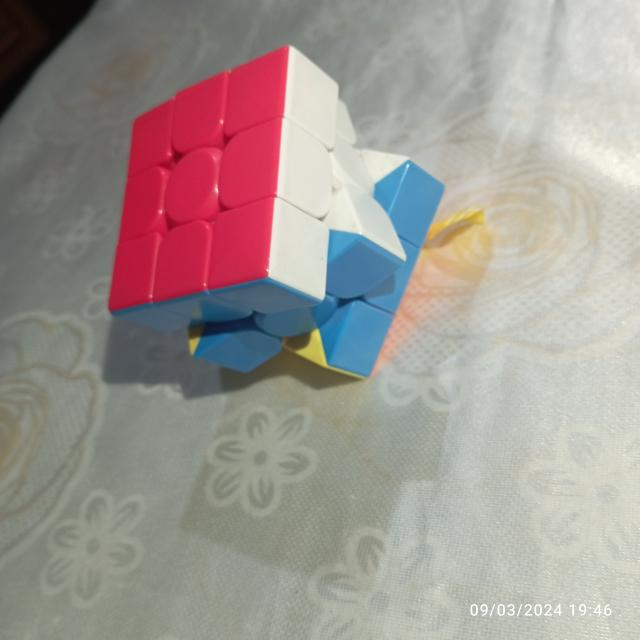Rub: (107, 40, 448, 385)
